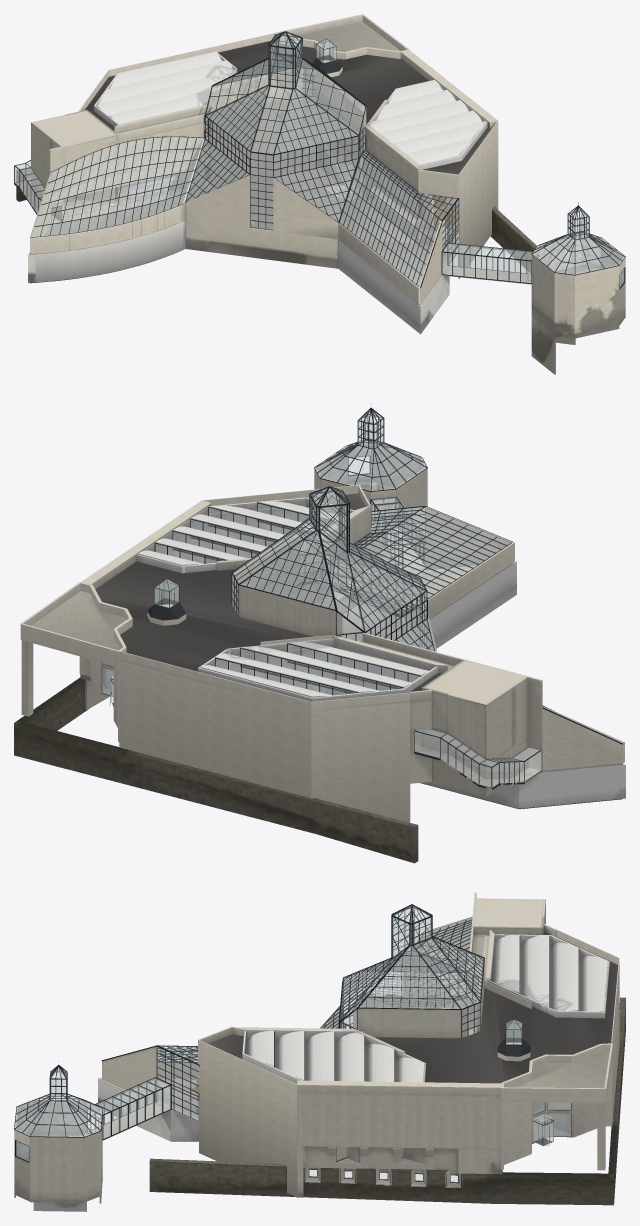
The model's file is building.glb.
3 views of the same model, one above another, from view 1: azimuth 30°, elevation 25°; view 2: azimuth 150°, elevation 25°; view 3: azimuth 270°, elevation 25° (orthographic). The views are drawn at different scales.
Parts seen in each view (by area): view 1: ENT-01-L00_GLASS, R04_RECESS_JAMB_FOOT, P05_FRONT_0, R24_SHELL_E_00, P10_MAIN_ROOF_FACE_0_GRID_0001, P05_FLOOR_L00_GH, R37_GH_EAST_PORTAL_METAL_HEAD, R99_W_GROUND_GALLERY_ENTRY_WALL, P05_MAIN_ROOF_DECK, R17_PORTAL_HEAD, R42_SHADE_00_00, R111_W_GALLERY_APPROACH_SOFFIT (+12 smaller); view 2: P05_FRONT_0, ENT-01-L00_GLASS, R04_RECESS_JAMB_FOOT, R99_W_GROUND_GALLERY_ENTRY_WALL, R35_WALL_51946353_00_0, P05_MAIN_ROOF_DECK, P10_MAIN_ROOF_FACE_0_GRID_0001, R37_GH_EAST_PORTAL_METAL_HEAD, R24_SHELL_E_00, R42_SHADE_00_00, P07_CANOPY_SLAB_ENVELOPE, P05_FLOOR_L00_GH (+5 smaller); view 3: R04_RECESS_JAMB_FOOT, P05_FRONT_0, ENT-01-L00_GLASS, R35_WALL_51946353_00_0, R24_SHELL_E_00, P05_MAIN_ROOF_DECK, R99_W_GROUND_GALLERY_ENTRY_WALL, P10_MAIN_ROOF_FACE_0_GRID_0001, R37_GH_EAST_PORTAL_METAL_HEAD, P07_CANOPY_SLAB_ENVELOPE, R42_SHADE_00_00, R111_W_GALLERY_APPROACH_SOFFIT (+5 smaller).
Part boxes in pixels (<box>): ENT-01-L00_GLASS: <box>14,32,624,287</box>; R04_RECESS_JAMB_FOOT: <box>31,50,625,374</box>; P05_FRONT_0: <box>30,32,625,321</box>; R24_SHELL_E_00: <box>96,51,486,244</box>; P10_MAIN_ROOF_FACE_0_GRID_0001: <box>30,31,625,283</box>; P05_FLOOR_L00_GH: <box>30,112,531,304</box>; R37_GH_EAST_PORTAL_METAL_HEAD: <box>31,33,601,288</box>; R99_W_GROUND_GALLERY_ENTRY_WALL: <box>28,51,623,334</box>; P05_MAIN_ROOF_DECK: <box>85,41,491,181</box>; R17_PORTAL_HEAD: <box>36,68,538,282</box>; R42_SHADE_00_00: <box>187,55,355,200</box>; R111_W_GALLERY_APPROACH_SOFFIT: <box>34,96,418,227</box>; P05_FRONT_0: <box>21,485,624,822</box>; ENT-01-L00_GLASS: <box>102,410,541,787</box>; R04_RECESS_JAMB_FOOT: <box>80,468,542,795</box>; R99_W_GROUND_GALLERY_ENTRY_WALL: <box>103,444,625,808</box>; R35_WALL_51946353_00_0: <box>14,677,418,863</box>; P05_MAIN_ROOF_DECK: <box>95,493,442,711</box>; P10_MAIN_ROOF_FACE_0_GRID_0001: <box>154,408,622,744</box>; R37_GH_EAST_PORTAL_METAL_HEAD: <box>155,408,512,693</box>; R24_SHELL_E_00: <box>138,501,619,772</box>; R42_SHADE_00_00: <box>241,525,430,648</box>; P07_CANOPY_SLAB_ENVELOPE: <box>20,582,125,667</box>; P05_FLOOR_L00_GH: <box>103,565,622,771</box>; R04_RECESS_JAMB_FOOT: <box>14,894,556,1203</box>; P05_FRONT_0: <box>14,916,619,1201</box>; ENT-01-L00_GLASS: <box>15,906,570,1182</box>; R35_WALL_51946353_00_0: <box>149,997,625,1205</box>; R24_SHELL_E_00: <box>245,934,607,1082</box>; P05_MAIN_ROOF_DECK: <box>199,932,619,1095</box>; R99_W_GROUND_GALLERY_ENTRY_WALL: <box>16,934,609,1211</box>; P10_MAIN_ROOF_FACE_0_GRID_0001: <box>14,904,484,1158</box>; R37_GH_EAST_PORTAL_METAL_HEAD: <box>37,906,578,1115</box>; P07_CANOPY_SLAB_ENVELOPE: <box>502,1044,612,1102</box>; R42_SHADE_00_00: <box>342,945,483,1015</box>; R111_W_GALLERY_APPROACH_SOFFIT: <box>468,899,544,1031</box>.
Bounding box in the file's own units: 81.08 × 43.8 × 94.58.
51 materials, 10 textured.
